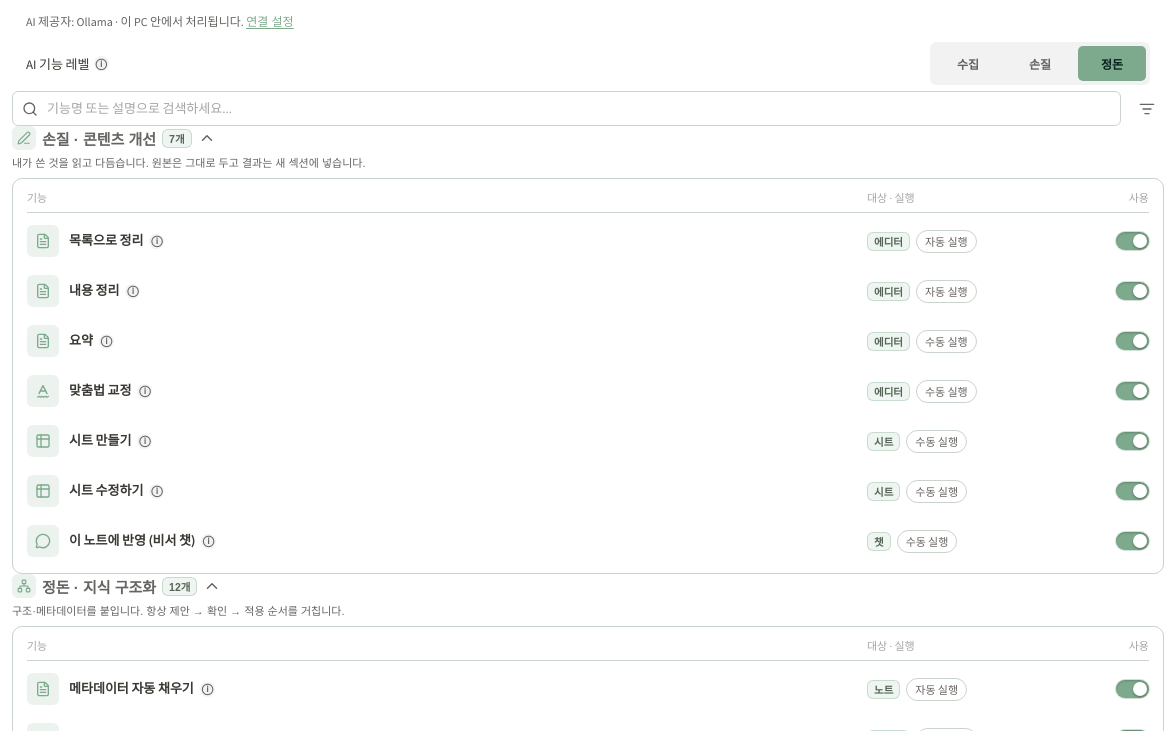
Test case: Challenger M4: AiCapabilityCatalog Empirical Adversarial Challenge › 2. Target Filter Toggling & Combination Matrix › 2.3 filters strictly by 'note' target
Click the button with test id "ai-capability-filter-button" at (1146, 108), box top-left (1129, 91), bottom-right (1164, 126)
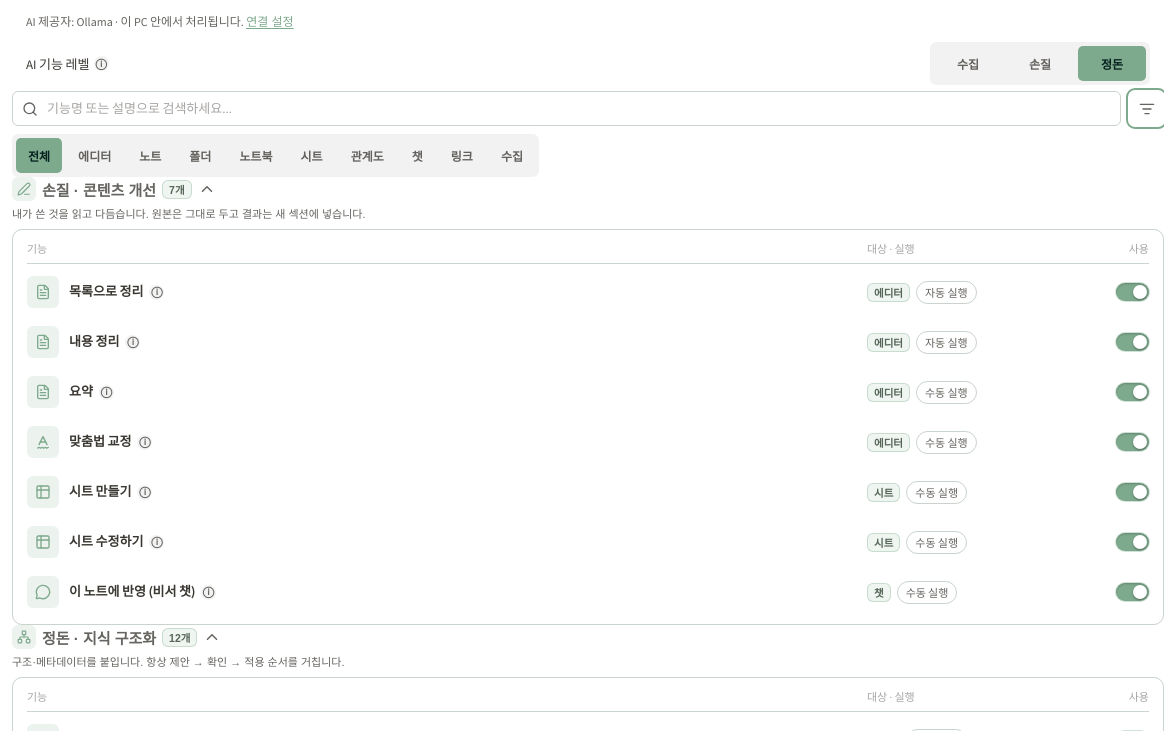
Click the radio button labelled "노트" at (150, 156), box top-left (127, 138), bottom-right (173, 173)
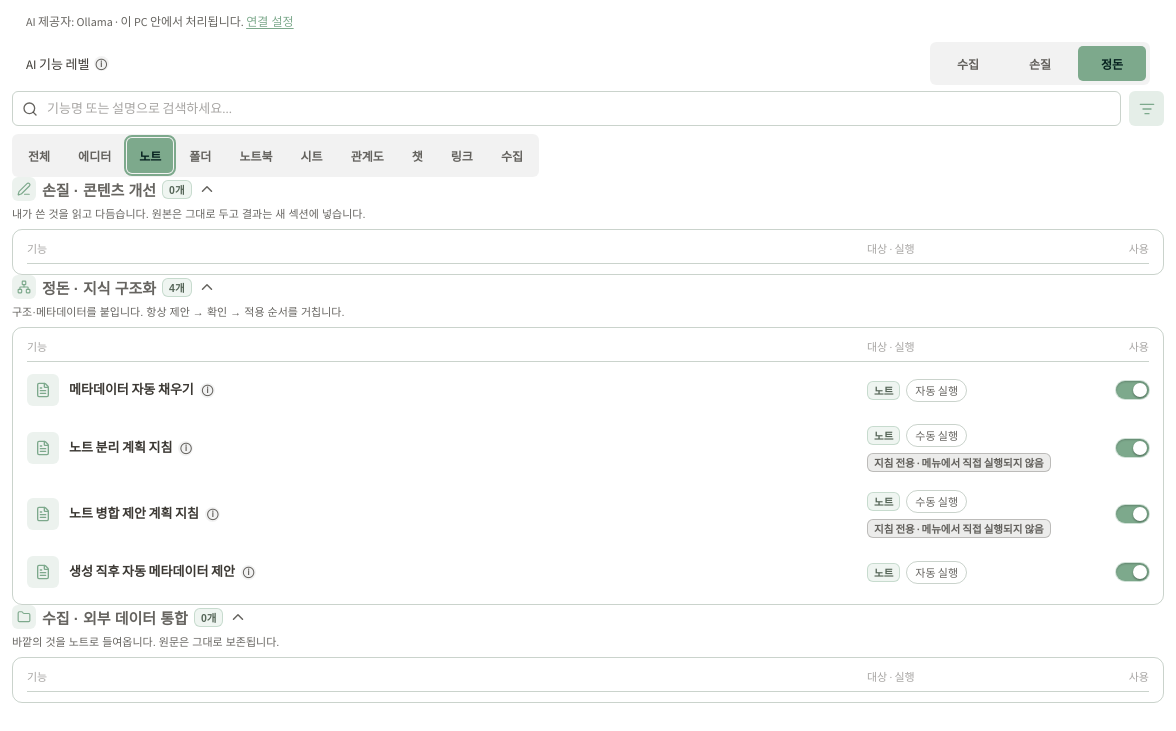
Expected: the element with test id "ai-capability-row-agent_split" is shown, top-left (27, 418), bottom-right (1149, 478)
Expected: the element with test id "ai-capability-row-list" is gone
